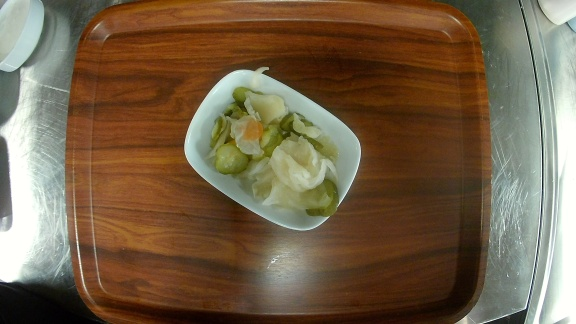tursu: (183, 69, 362, 231)
